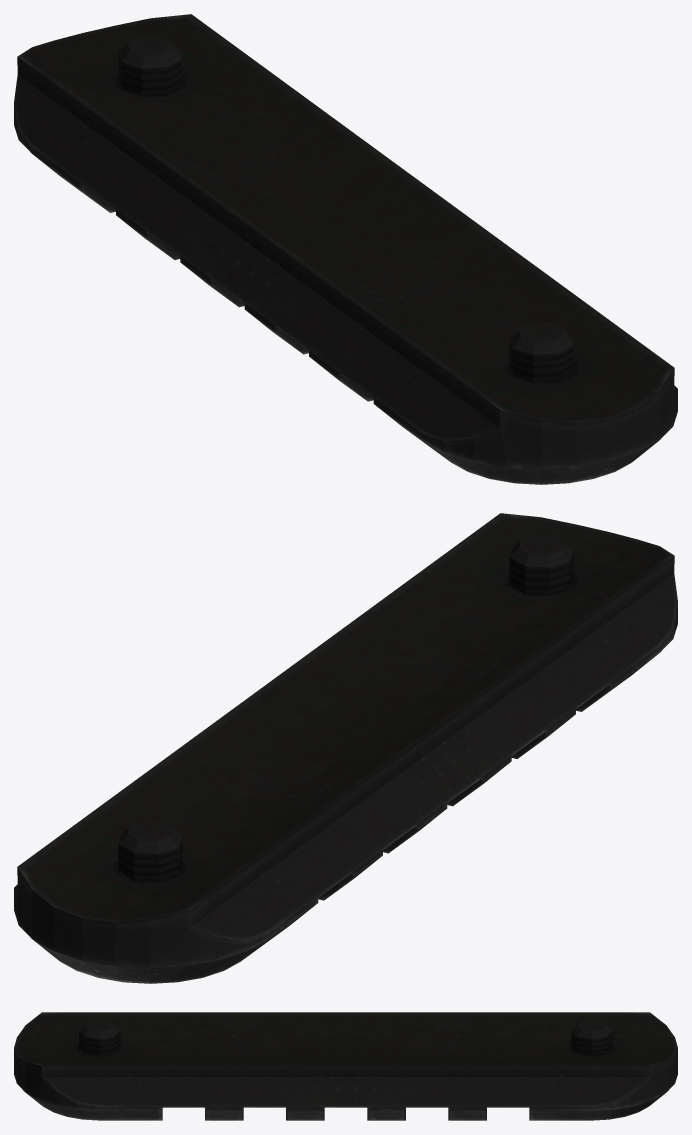
The picture shows the model from 3 angles, top to bottom: view 1: azimuth 30°, elevation 25°; view 2: azimuth 150°, elevation 25°; view 3: azimuth 270°, elevation 25°; orthographic projection. The views are drawn at different scales.
Visible parts, largest first — view 1: TW_5b30bc165acfc40016387293_PZ_Import; view 2: TW_5b30bc165acfc40016387293_PZ_Import; view 3: TW_5b30bc165acfc40016387293_PZ_Import.
Part boxes in pixels (<box>): TW_5b30bc165acfc40016387293_PZ_Import: <box>14,14,677,484</box>; TW_5b30bc165acfc40016387293_PZ_Import: <box>14,513,677,983</box>; TW_5b30bc165acfc40016387293_PZ_Import: <box>14,1012,677,1120</box>.
Size of the model in its own units: 0.0122 by 0.047 by 0.00532.
1 material, 1 textured.
